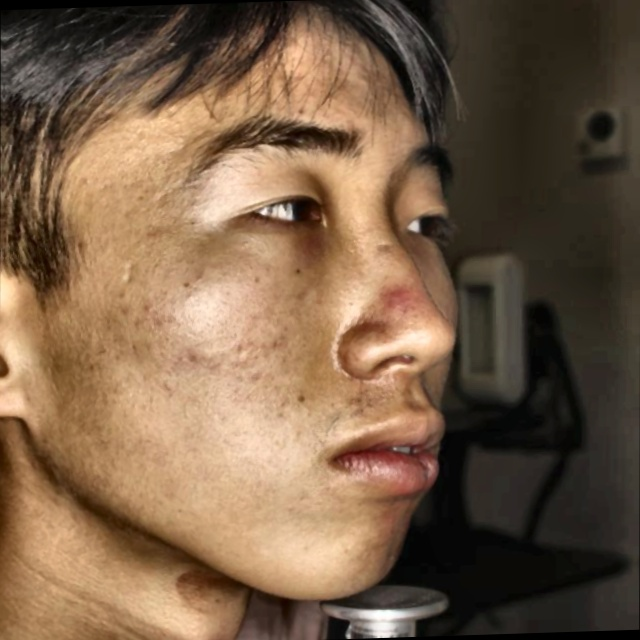comedone: (380, 284, 413, 312)
